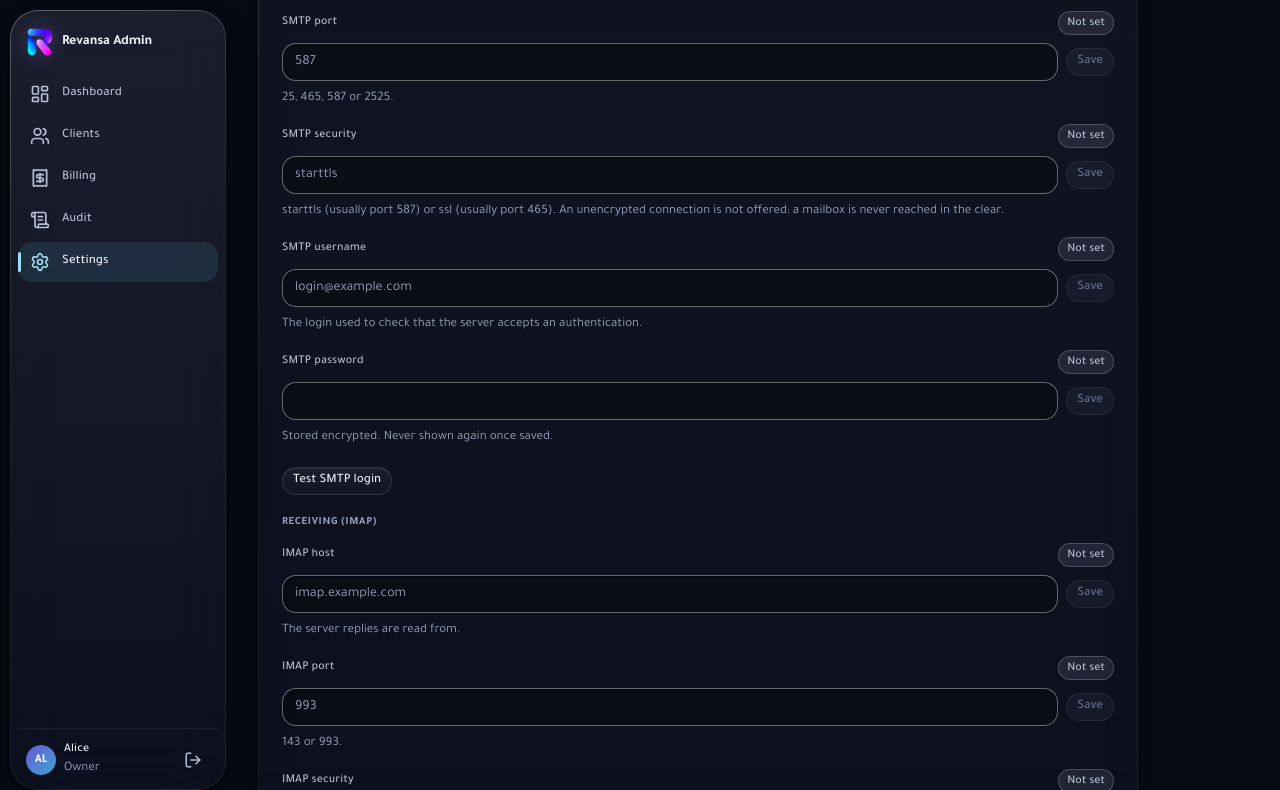
Admin Email servers — logins › saves a password through the write-only endpoint, then empties the field
(page scrolled)
Type "s3cret-value" into the password field labelled "SMTP password" at (670, 401), box [282,382,1058,420]
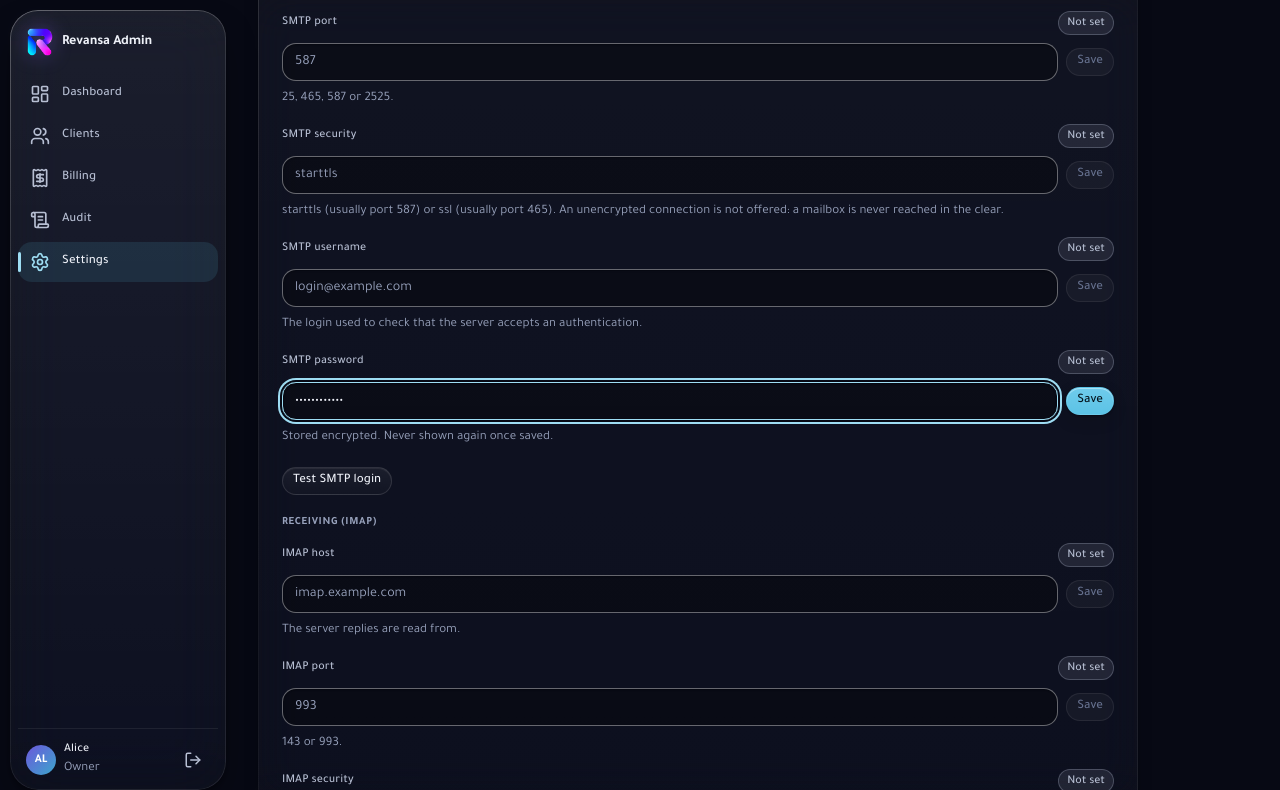
Click the 4th button "Save" at (1090, 401), box [1066,387,1114,415]
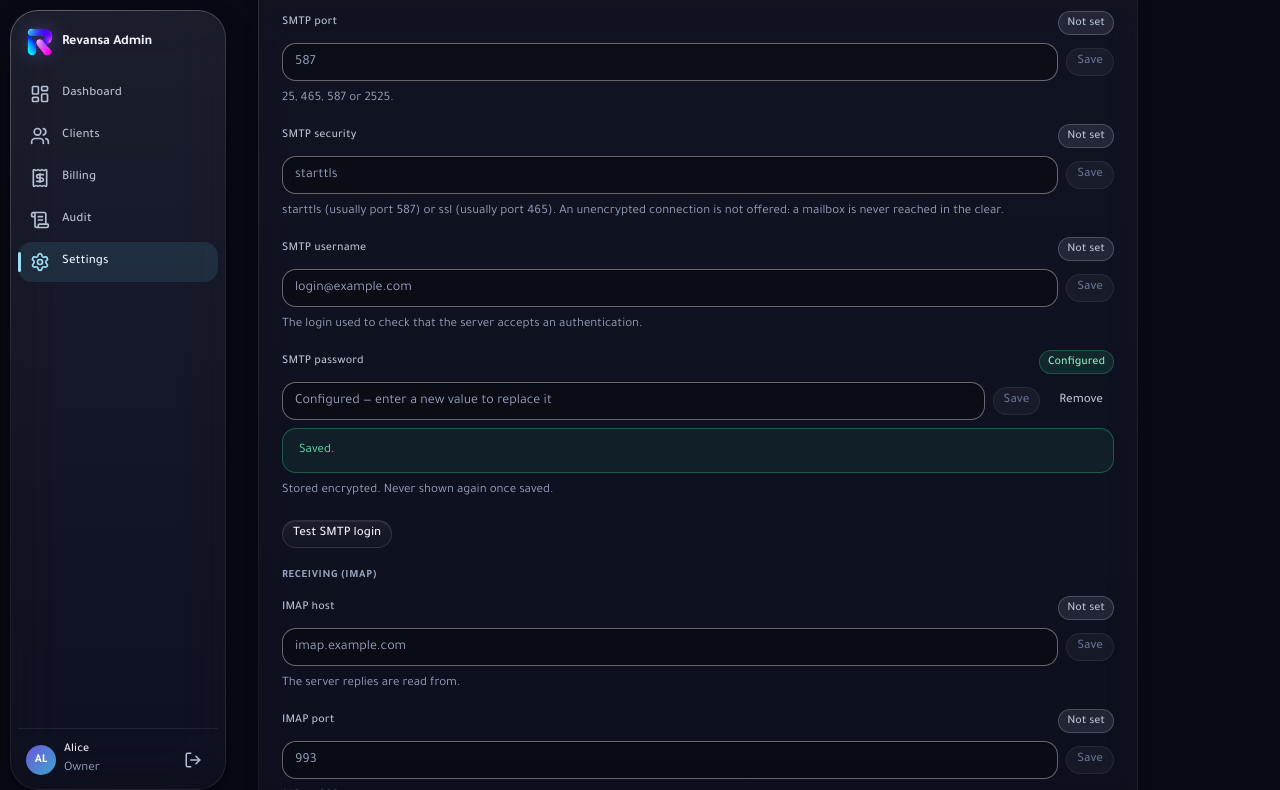
Expected: the text "Saved." is shown, [282,428,1114,473]
Expected: the password field labelled "SMTP password" is empty, [282,382,984,420]
